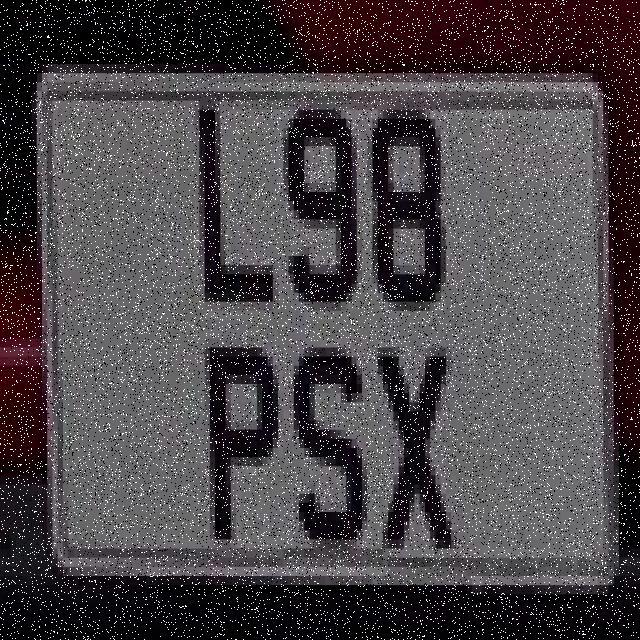licenseplate: (16, 42, 632, 618)
